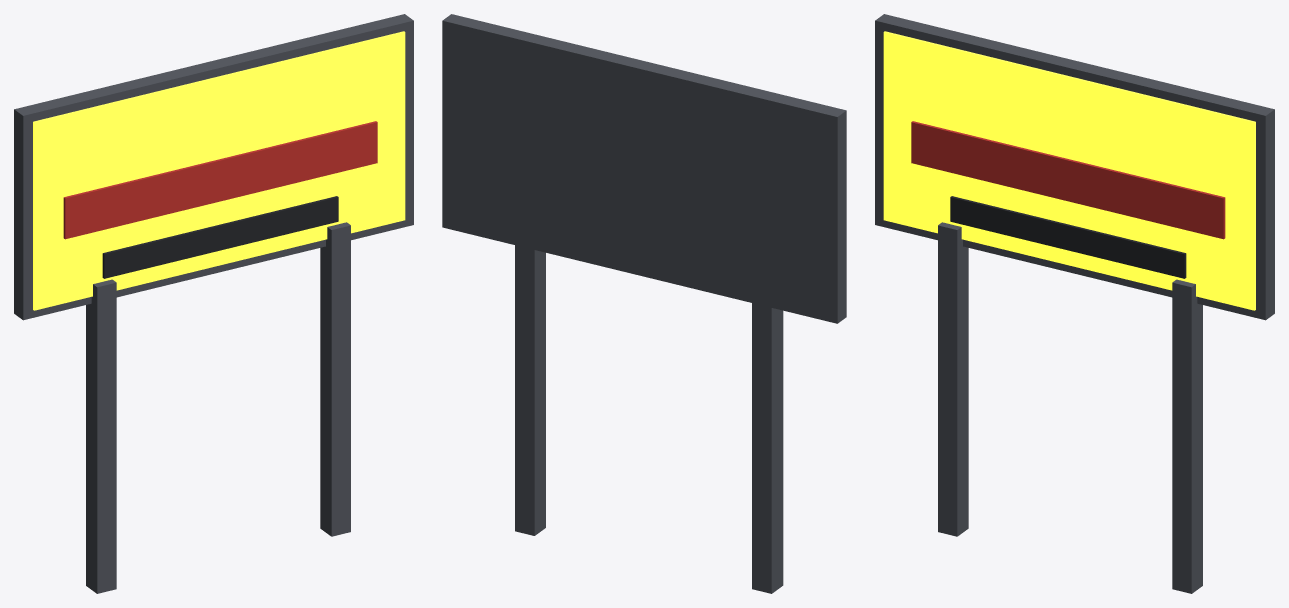
File: billboard.glb
3 views of the same model, side by side, from view 1: azimuth 30°, elevation 25°; view 2: azimuth 150°, elevation 25°; view 3: azimuth 330°, elevation 25° (orthographic).
Parts seen in each view (by area): view 1: billboard; view 2: billboard; view 3: billboard.
Part boxes in pixels (x1=…): billboard: x1=14, y1=14, x2=413, y2=593; billboard: x1=442, y1=14, x2=846, y2=593; billboard: x1=875, y1=14, x2=1274, y2=593.
Bounding box in the file's own units: 1 × 1.2 × 0.065.
